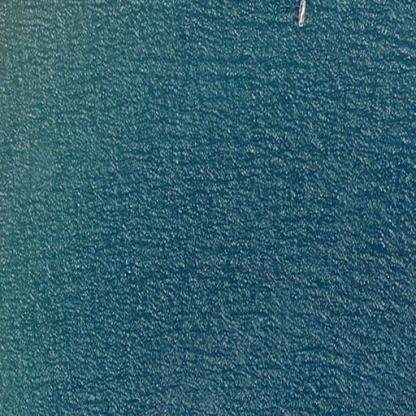ship: (296, 0, 306, 28)
